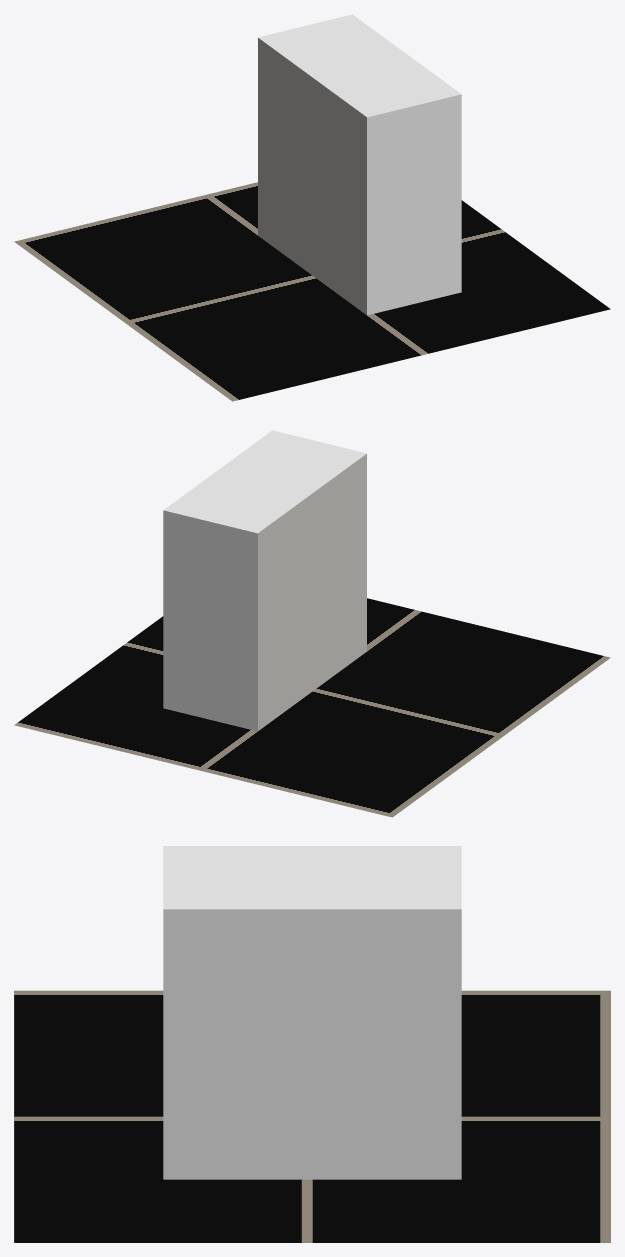
Rendered from Basic_Straight_Mid_1x1.glb.
3 views of the same model, one above another, from view 1: azimuth 30°, elevation 25°; view 2: azimuth 150°, elevation 25°; view 3: azimuth 270°, elevation 25° (orthographic). The views are drawn at different scales.
Visible parts, largest first — view 1: Floor, Basic_Straight_Mid_1x1; view 2: Floor, Basic_Straight_Mid_1x1; view 3: Basic_Straight_Mid_1x1, Floor.
Part boxes in pixels (x1,y1,x2,y2): Floor: (14, 182, 610, 401); Basic_Straight_Mid_1x1: (258, 14, 461, 315); Floor: (14, 598, 610, 817); Basic_Straight_Mid_1x1: (163, 430, 366, 731); Basic_Straight_Mid_1x1: (163, 846, 461, 1179); Floor: (14, 990, 610, 1242).
Size of the model in its own units: 200 by 100 by 200.
Materials: 3 (1 with a texture image).
